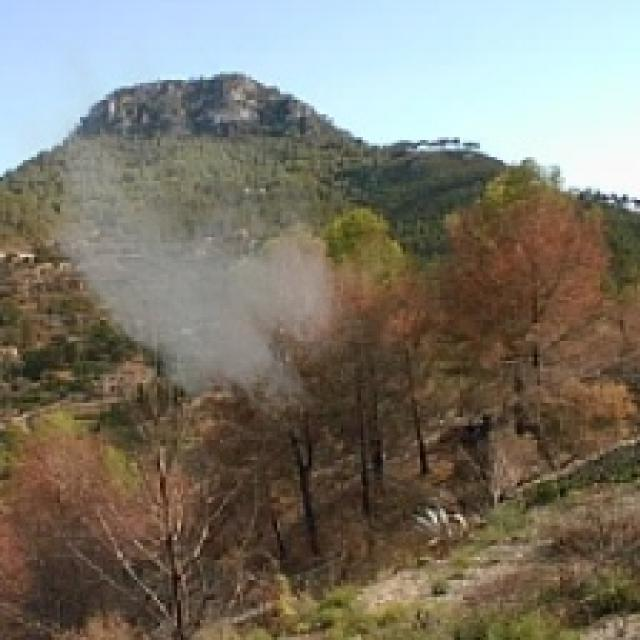smoke: (6, 37, 374, 429)
